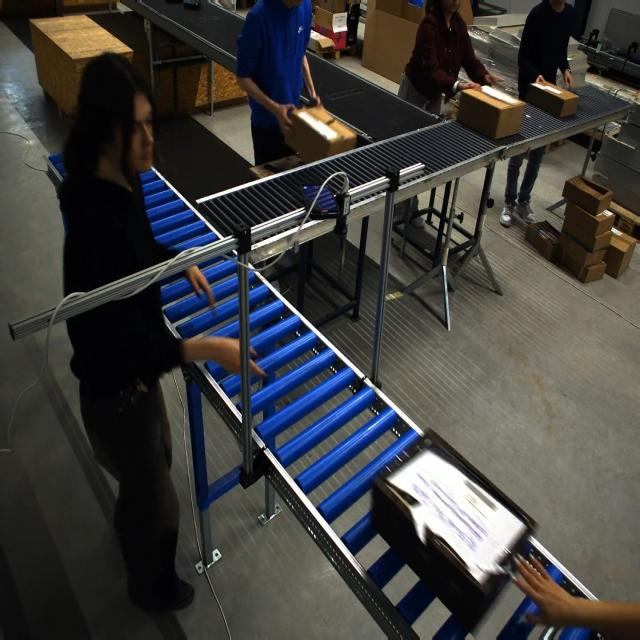box: (374, 430, 536, 627), (456, 85, 527, 140), (286, 104, 348, 164)
product: (183, 0, 201, 10)
